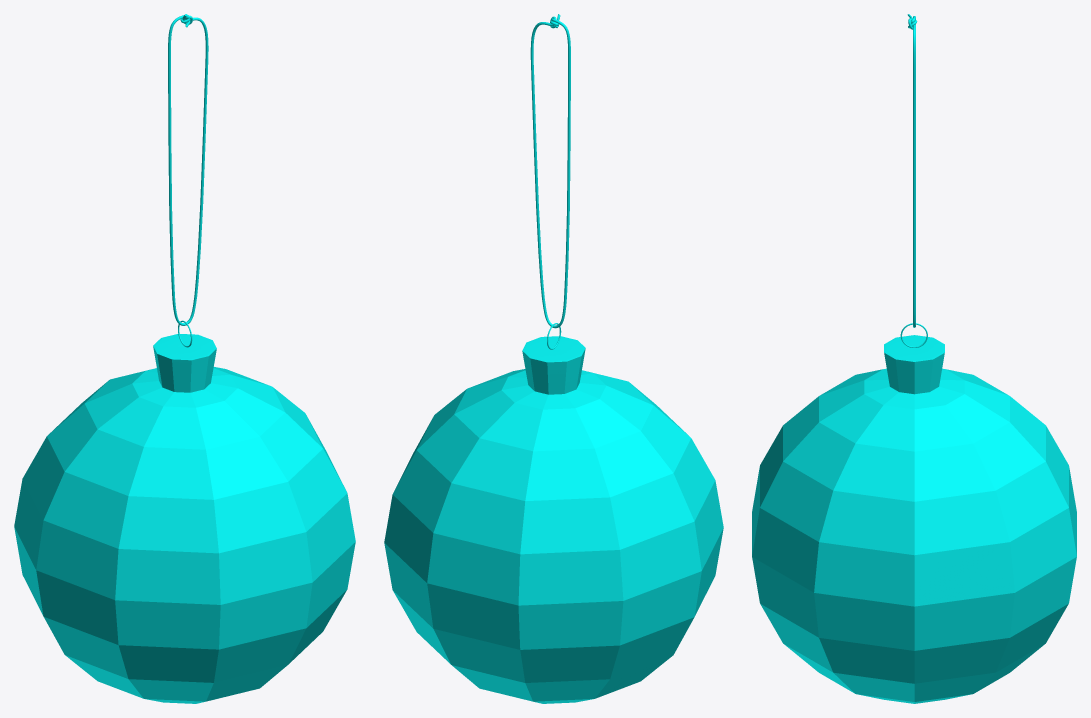
File: Ball2.obj
3 views of the same model, side by side, from view 1: azimuth 30°, elevation 25°; view 2: azimuth 150°, elevation 25°; view 3: azimuth 270°, elevation 25° (orthographic).
Visible parts, largest first — view 1: Ball2; view 2: Ball2; view 3: Ball2.
Boxes of the visible parts, x1=… form: Ball2: x1=14, y1=14, x2=355, y2=703; Ball2: x1=384, y1=14, x2=723, y2=703; Ball2: x1=752, y1=14, x2=1076, y2=703.
Size of the model in its own units: 2.89 by 6.29 by 2.75.
